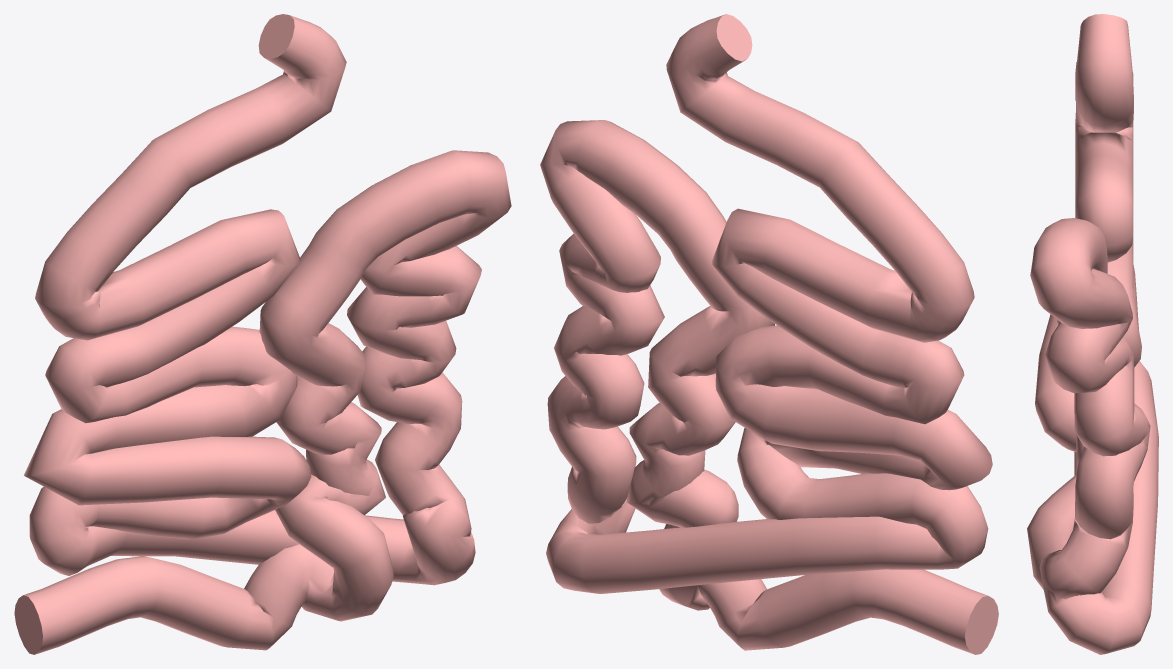
The model's file is IntestinoDelgado.fbx.
The picture shows the model from 3 angles, left to right: view 1: azimuth 30°, elevation 25°; view 2: azimuth 150°, elevation 25°; view 3: azimuth 270°, elevation 25°; orthographic projection. The views are drawn at different scales.
Visible parts, largest first — view 1: BézierCurve.001; view 2: BézierCurve.001; view 3: BézierCurve.001.
Part boxes in pixels (x1=…): BézierCurve.001: x1=14, y1=14, x2=511, y2=654; BézierCurve.001: x1=540, y1=14, x2=998, y2=654; BézierCurve.001: x1=1027, y1=14, x2=1158, y2=654.
Size of the model in its own units: 51.13 by 66.08 by 13.27.
